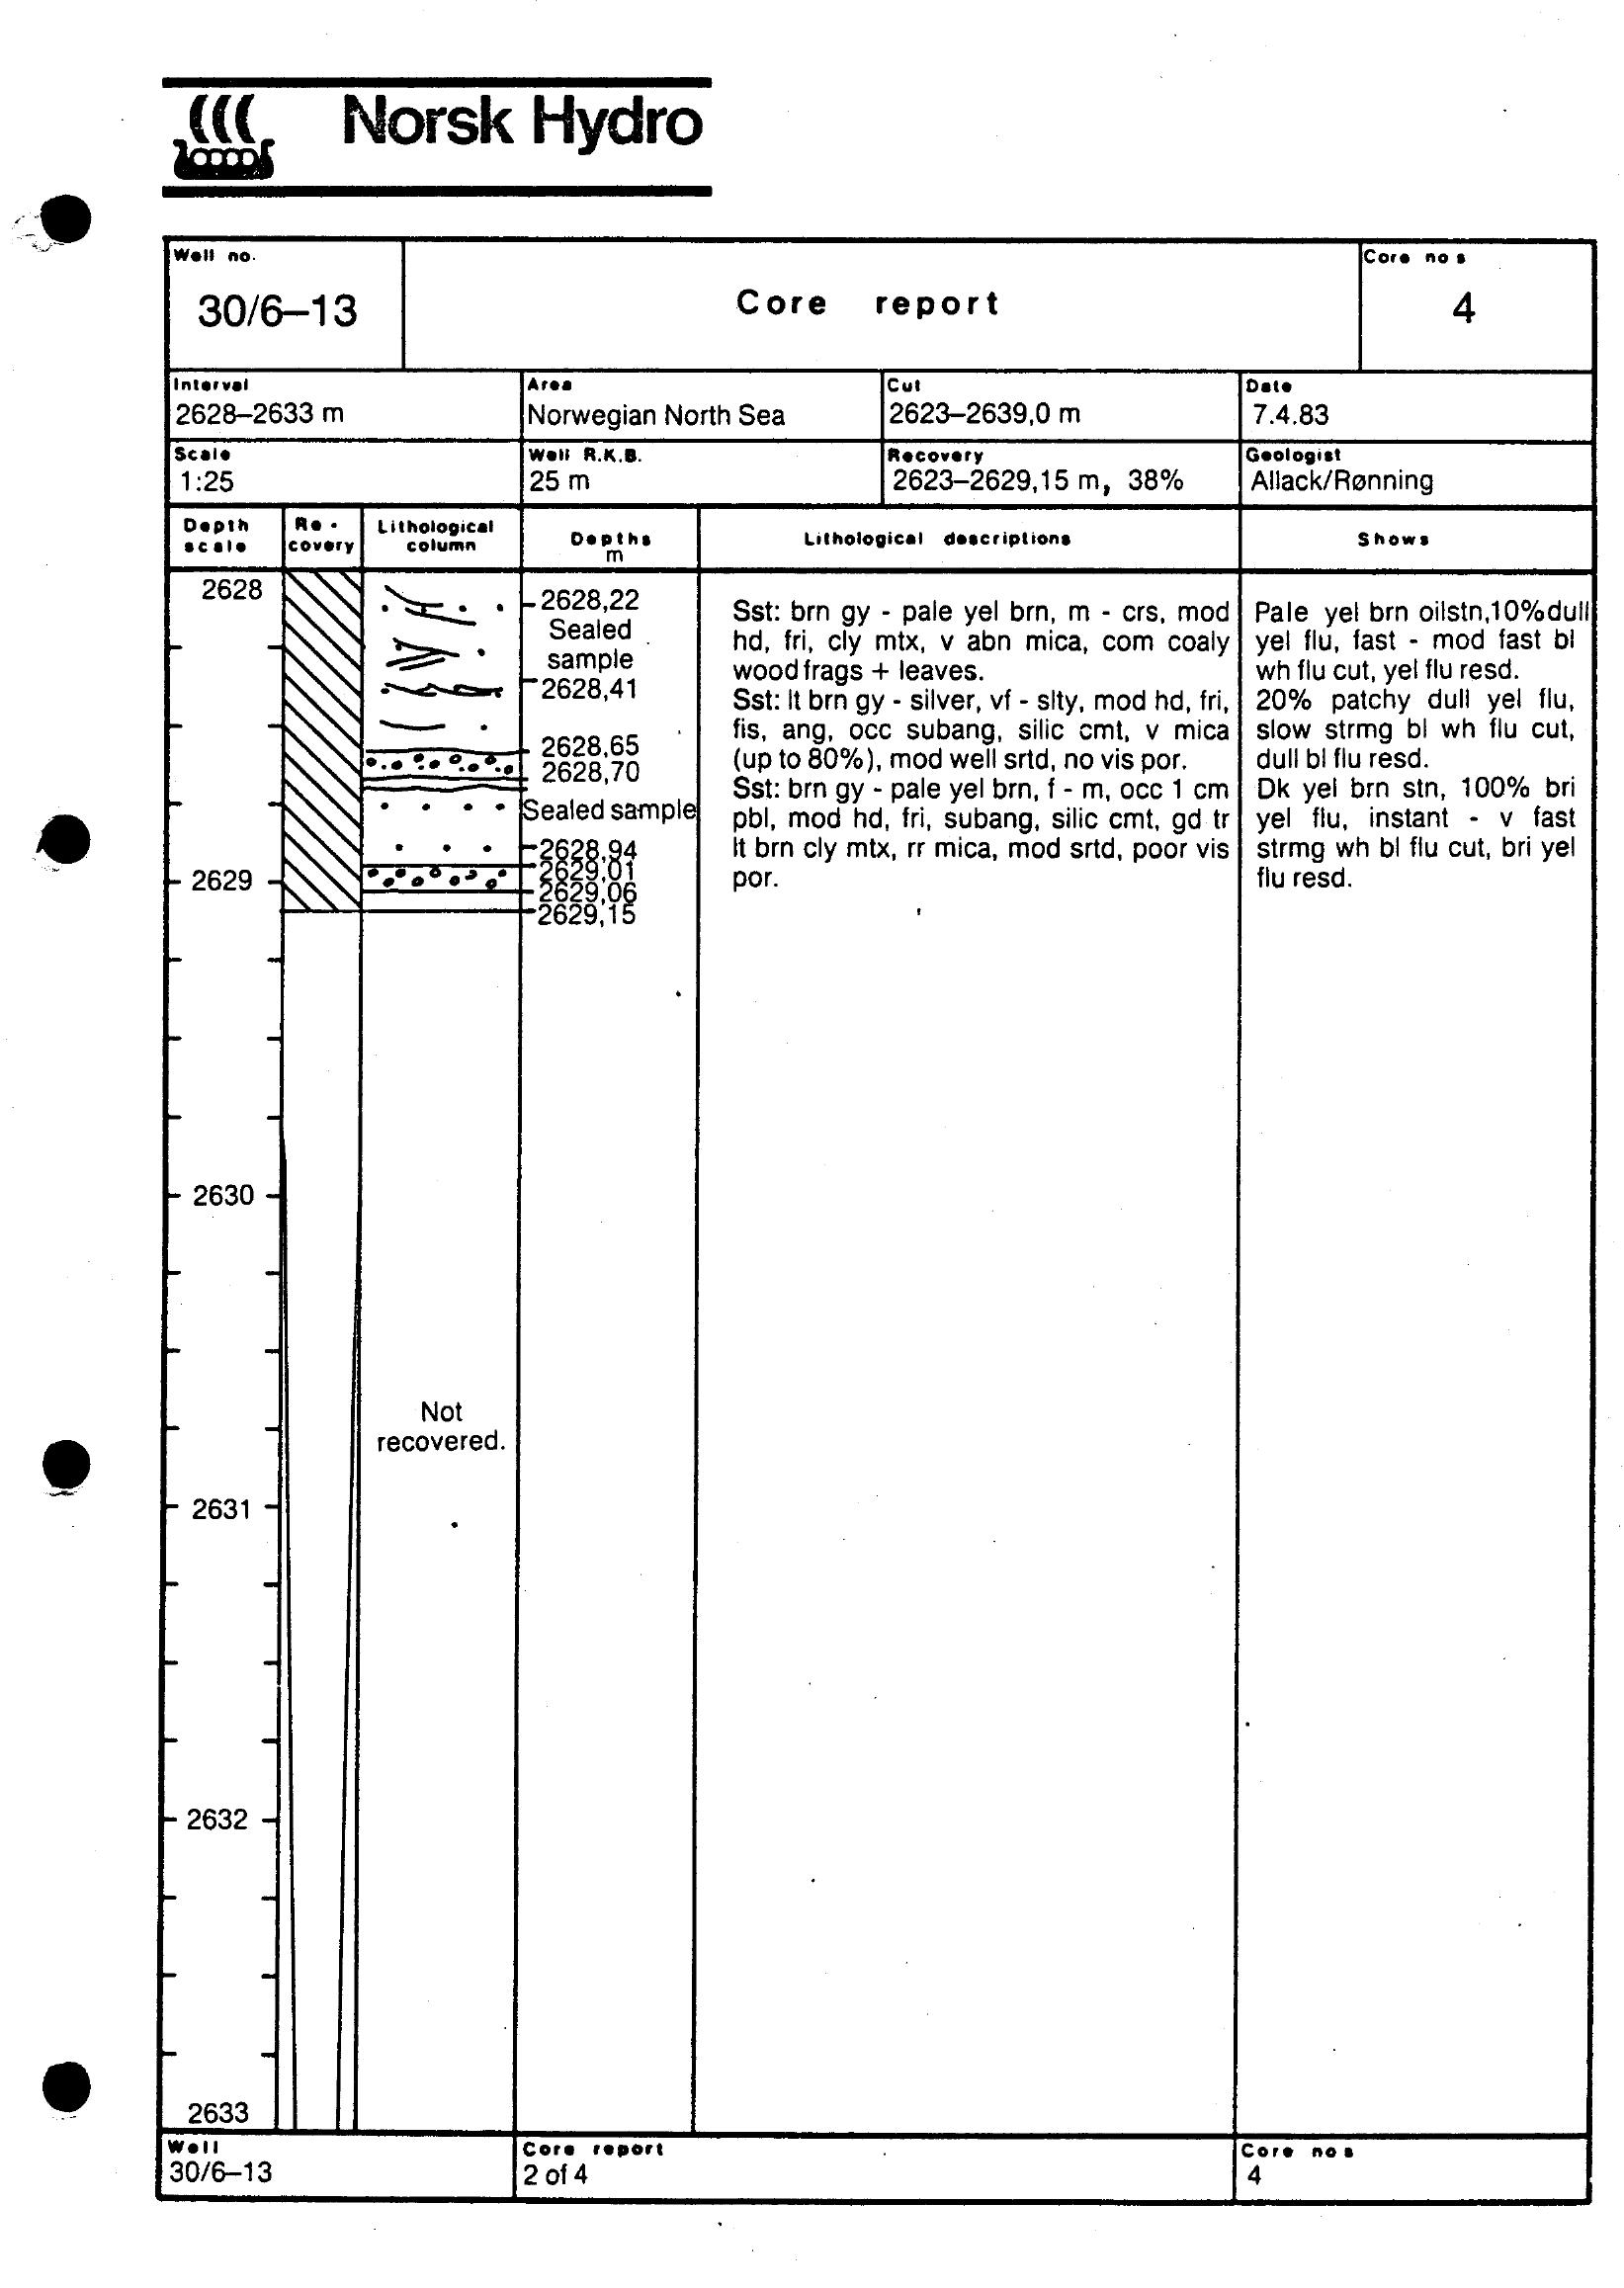graph: (139, 218, 1605, 2221)
undefined: (139, 44, 747, 214)
